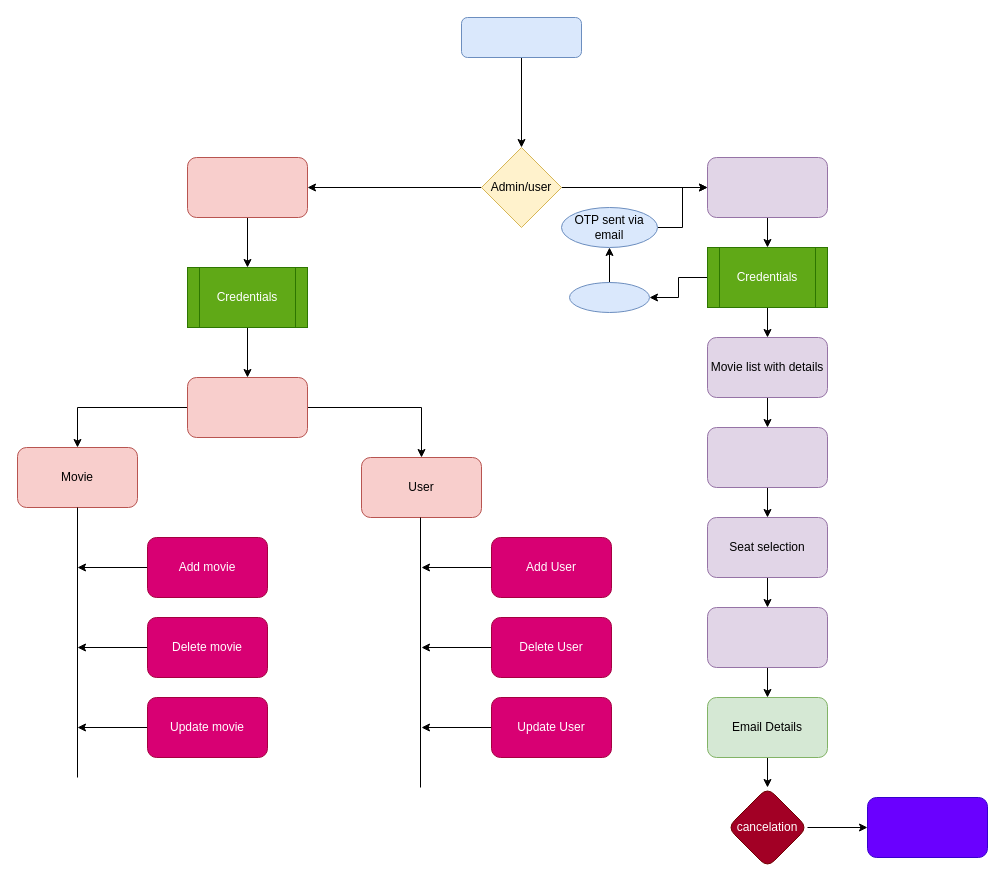
Some shapes in this 1005 by 885 pixel diagram are drawn without their labels. The shapes that lost their labels are listed below. From the top down, each one's centre as x and y in pixels, then its label:
point 521,37: Home Screen
point 247,187: Admin
point 767,187: Viewer
point 609,297: Forget Password
point 247,407: Admin Screen
point 767,457: Theater Selection
point 767,637: Payment
point 927,827: Email Invoice
